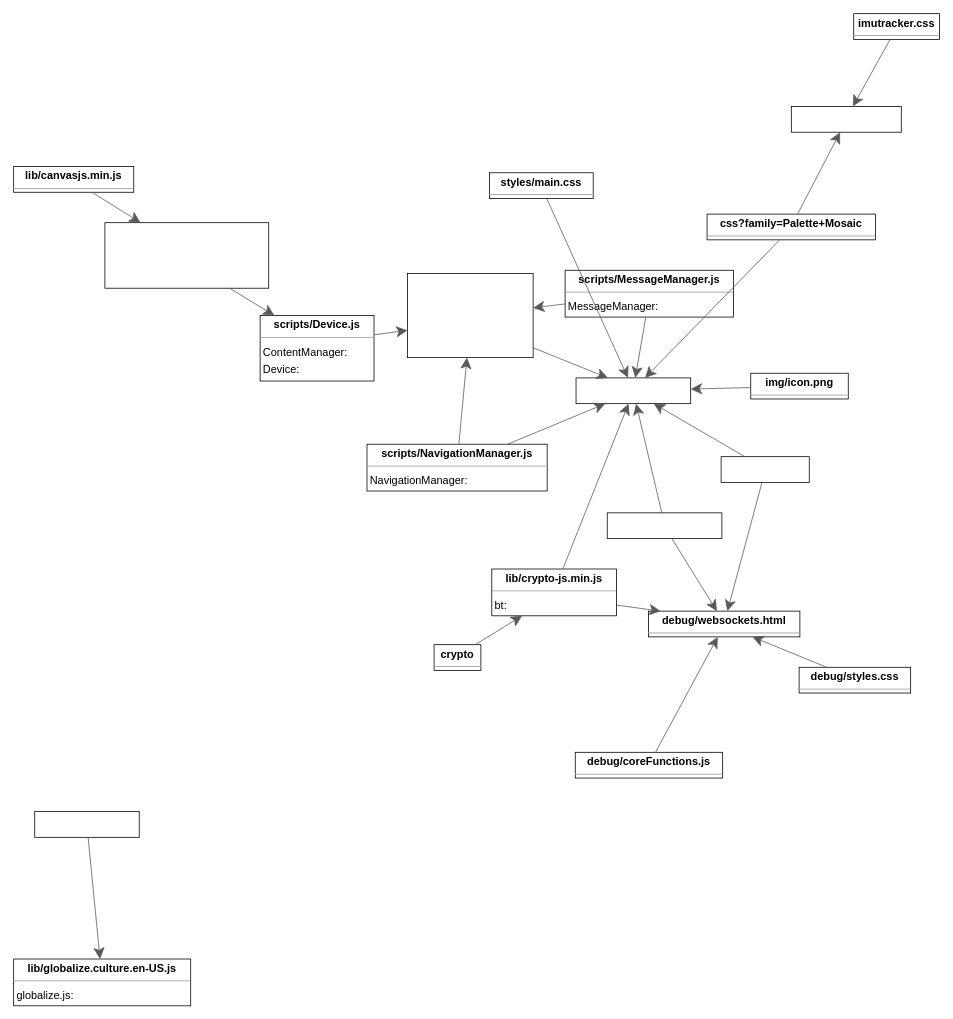
This 953x1019 diagram has some shape labels left out. The shapes that lost their labels are listed below. From the top down, each one's centre as x and y in pixels, then its label:
At [846,119]: "html/index.html".
At [186,255]: "scripts/ContentManager.js ContentManager: canvasjs.min.js:".
At [470,315]: "scripts/main.js Device: MessageManager: NavigationManager:".
At [633,390]: "html/admin.html".
At [764,469]: "lib/jquery.js".
At [664,525]: "lib/qrcode.min.js".
At [86,824]: "lib/globalize.js".
